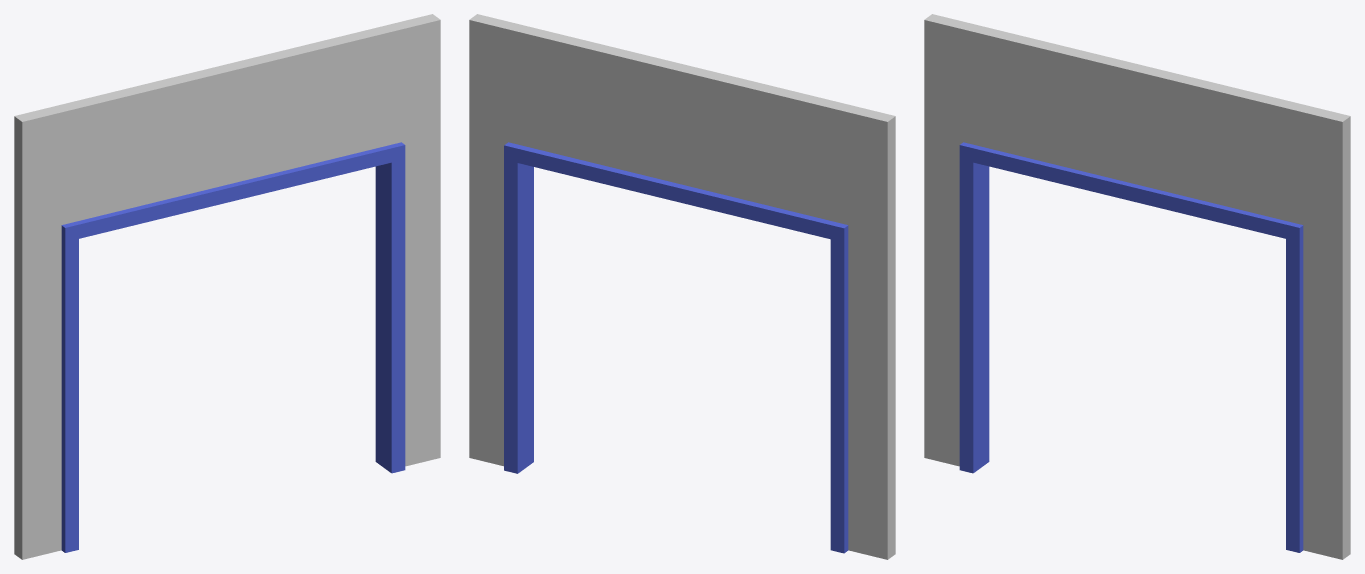
Rendered from model_doorFrame_02.fbx.
The picture shows the model from 3 angles, left to right: view 1: azimuth 30°, elevation 25°; view 2: azimuth 150°, elevation 25°; view 3: azimuth 330°, elevation 25°; orthographic projection.
Parts seen in each view (by area): view 1: Plane.035; view 2: Plane.035; view 3: Plane.035.
Boxes of the visible parts, bbox=[...] form: Plane.035: bbox=[14, 14, 440, 559]; Plane.035: bbox=[469, 14, 895, 559]; Plane.035: bbox=[924, 14, 1350, 559].
Bounding box in the file's own units: 300 × 300 × 20.
